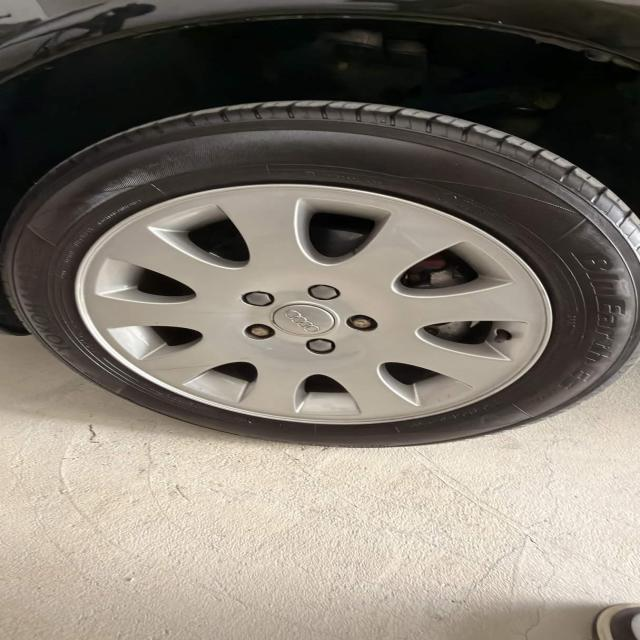jante: (70, 183, 557, 423)
parafuso: (296, 278, 349, 304), (236, 286, 281, 310), (341, 311, 386, 334), (241, 320, 281, 344), (306, 336, 342, 358)
roda: (0, 99, 640, 450)
